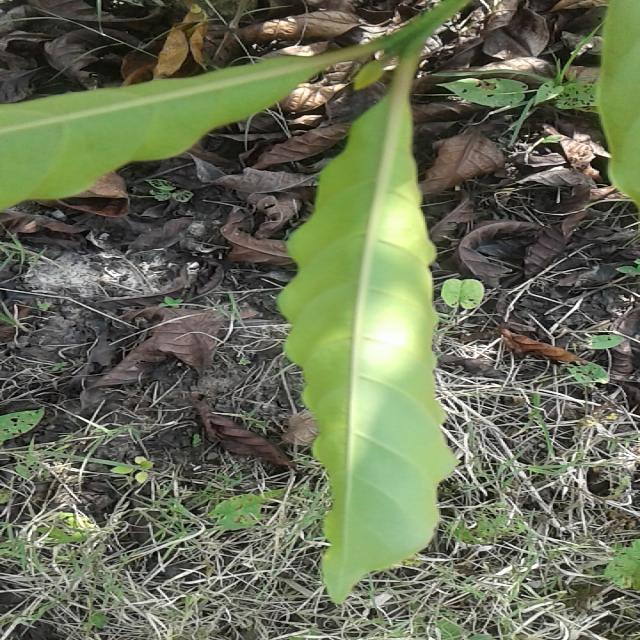Sanas: (276, 63, 456, 607)
